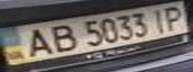0: (100, 16, 121, 44)
3: (115, 12, 136, 41), (130, 10, 151, 37)
5: (78, 17, 103, 47)
A: (15, 26, 57, 57)
B: (42, 21, 81, 53)
I: (145, 6, 172, 34)
P: (160, 3, 190, 30)
